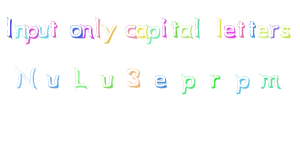3: (125, 65, 142, 89)
I: (2, 15, 18, 38)
L: (72, 65, 88, 89)
N: (14, 65, 39, 90)
a: (134, 23, 149, 39), (180, 23, 194, 39)
c: (124, 23, 137, 39)
e: (222, 23, 238, 39), (256, 24, 269, 39), (154, 74, 167, 89)
i: (159, 16, 169, 37)
l: (93, 14, 102, 38), (214, 15, 223, 39), (194, 16, 202, 39)
m: (259, 72, 282, 89)
n: (80, 22, 94, 41), (14, 23, 29, 39)
o: (68, 23, 84, 40)
p: (24, 22, 40, 46), (180, 72, 196, 96), (234, 74, 250, 96), (146, 24, 160, 46)
r: (208, 72, 221, 89), (269, 23, 281, 39)
s: (280, 23, 293, 39)
t: (48, 17, 60, 38), (246, 17, 257, 39), (169, 19, 180, 39), (237, 17, 245, 38)
u: (99, 73, 116, 89), (44, 72, 60, 88), (36, 22, 50, 39)
y: (101, 23, 117, 45)
